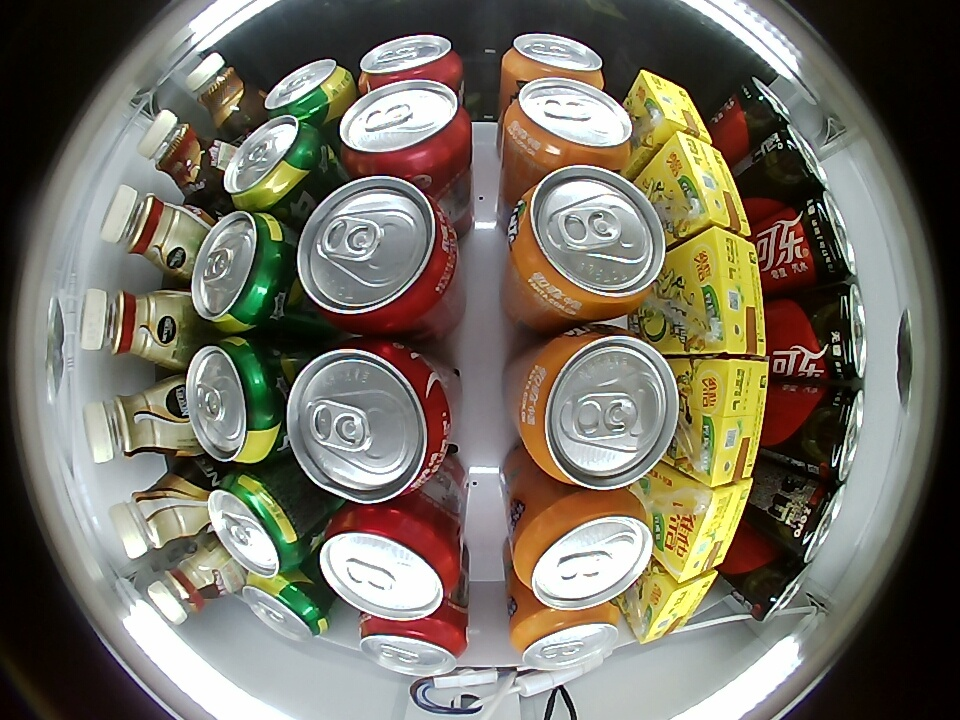fenda: (518, 329, 681, 490), (509, 166, 667, 318), (511, 490, 654, 611), (505, 77, 632, 168), (511, 606, 621, 672), (502, 33, 605, 89)
kafei: (99, 187, 210, 278), (108, 469, 209, 559), (137, 112, 228, 203), (78, 288, 186, 364), (82, 383, 186, 460), (145, 544, 239, 622), (185, 53, 263, 133)
kele: (285, 340, 451, 504), (297, 176, 456, 332), (320, 506, 460, 620), (337, 81, 469, 175), (358, 616, 467, 678), (358, 34, 461, 90)
lingdukele: (793, 382, 865, 481), (796, 282, 868, 380), (784, 191, 857, 284), (738, 546, 814, 625), (759, 124, 831, 203), (780, 480, 845, 564), (726, 77, 791, 137)
weitaningmeng: (687, 357, 769, 487), (683, 228, 766, 356), (658, 131, 750, 236), (661, 478, 753, 582), (632, 570, 718, 644), (630, 69, 711, 142)
xuebi2: (184, 336, 286, 463), (190, 210, 292, 332), (207, 470, 311, 576), (222, 116, 323, 210), (243, 573, 332, 641), (265, 58, 355, 121)
